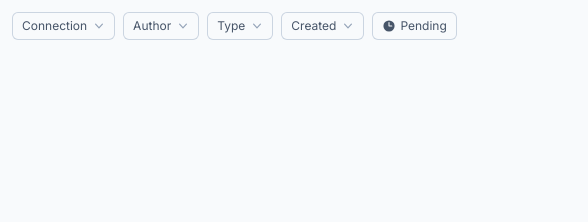
it: RequestFilterBar › selection semantics › selects a single author exclusively
Click the button with test id "filter-author".
click(161, 26)  # box x1=123 y1=12 x2=199 y2=40
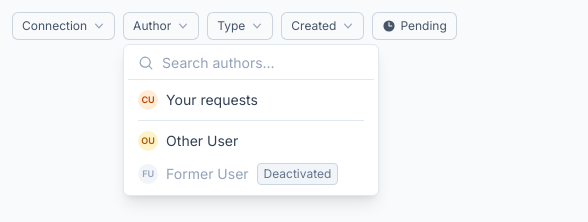
Click the button with test id "filter-author-mine".
click(251, 100)  # box x1=128 y1=84 x2=374 y2=116
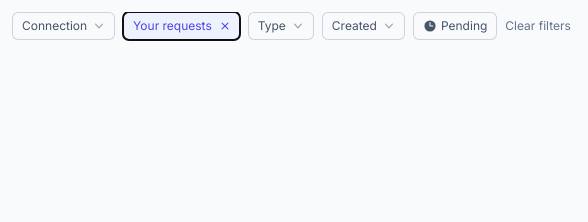
Expected: the button with test id "filter-author" reads "Your requests"
Click the button with test id "filter-author".
click(181, 26)  # box x1=123 y1=12 x2=240 y2=40
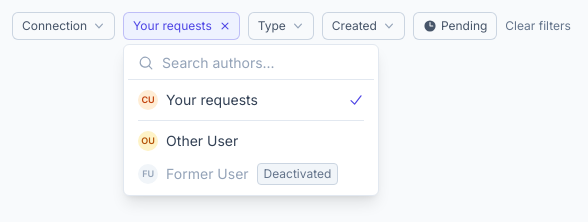
Click the text "Other User".
click(202, 140)  # box x1=166 y1=132 x2=238 y2=149
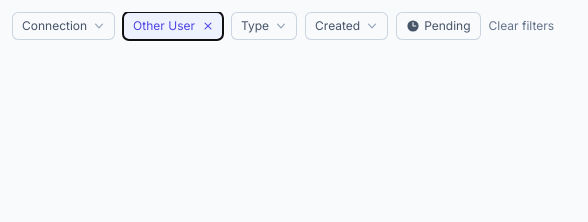
Expected: the button with test id "filter-author" reads "Other User", x1=123 y1=12 x2=223 y2=40
